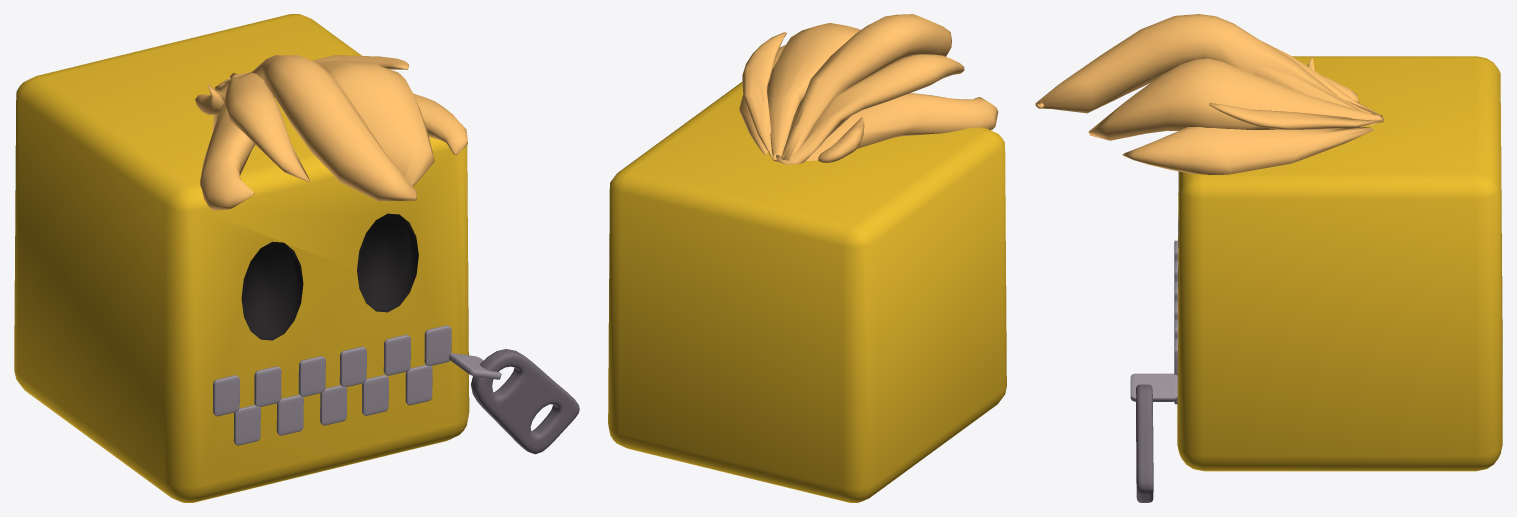
Rendered from Zip mouth.fbx.
The picture shows the model from 3 angles, left to right: view 1: azimuth 30°, elevation 25°; view 2: azimuth 150°, elevation 25°; view 3: azimuth 270°, elevation 25°; orthographic projection. The views are drawn at different scales.
Parts seen in each view (by area): view 1: Zip mouth; view 2: Zip mouth; view 3: Zip mouth.
Part boxes in pixels (x1=…): Zip mouth: x1=14, y1=14, x2=579, y2=502; Zip mouth: x1=608, y1=14, x2=1006, y2=502; Zip mouth: x1=1035, y1=14, x2=1502, y2=502.
Bounding box in the file's own units: 571 × 596 × 648.
